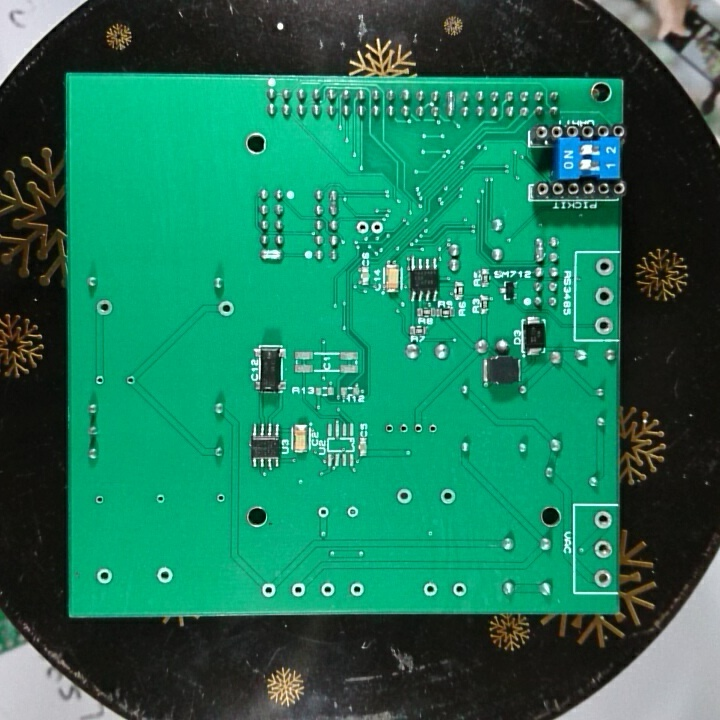F: (93, 296, 117, 321), (592, 315, 617, 338), (593, 284, 614, 309), (593, 255, 615, 278), (592, 508, 614, 531), (154, 563, 175, 586), (215, 298, 236, 321), (591, 540, 615, 560), (593, 568, 614, 589), (395, 486, 414, 509), (94, 566, 115, 586), (439, 486, 458, 508), (449, 580, 468, 600), (288, 581, 308, 600), (259, 580, 278, 600), (320, 579, 339, 598), (348, 578, 365, 599), (343, 503, 361, 522), (421, 580, 438, 599), (353, 218, 370, 237), (370, 218, 385, 238), (92, 372, 109, 389), (425, 421, 441, 439), (122, 372, 138, 389), (154, 490, 169, 507), (213, 490, 228, 507), (382, 421, 397, 438), (411, 420, 425, 438), (316, 504, 330, 521), (92, 493, 106, 509), (397, 421, 410, 438)
P: (532, 235, 547, 265), (445, 87, 457, 121), (327, 188, 340, 217), (259, 248, 285, 262)
